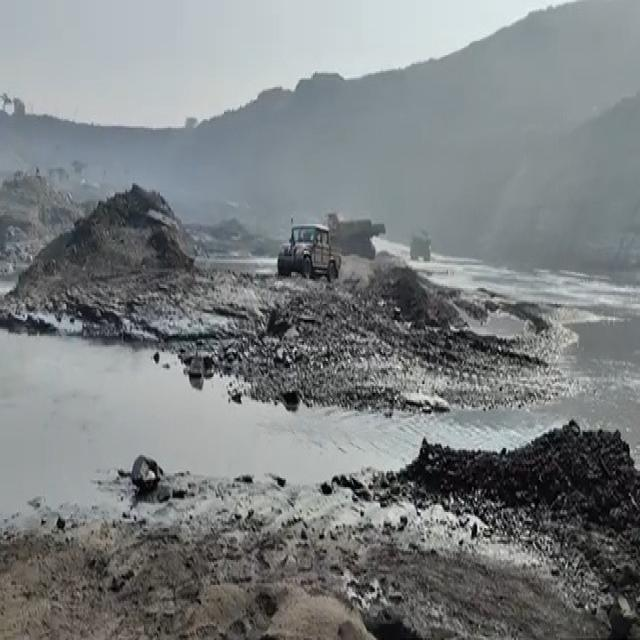light_vehicle: (280, 220, 344, 287)
